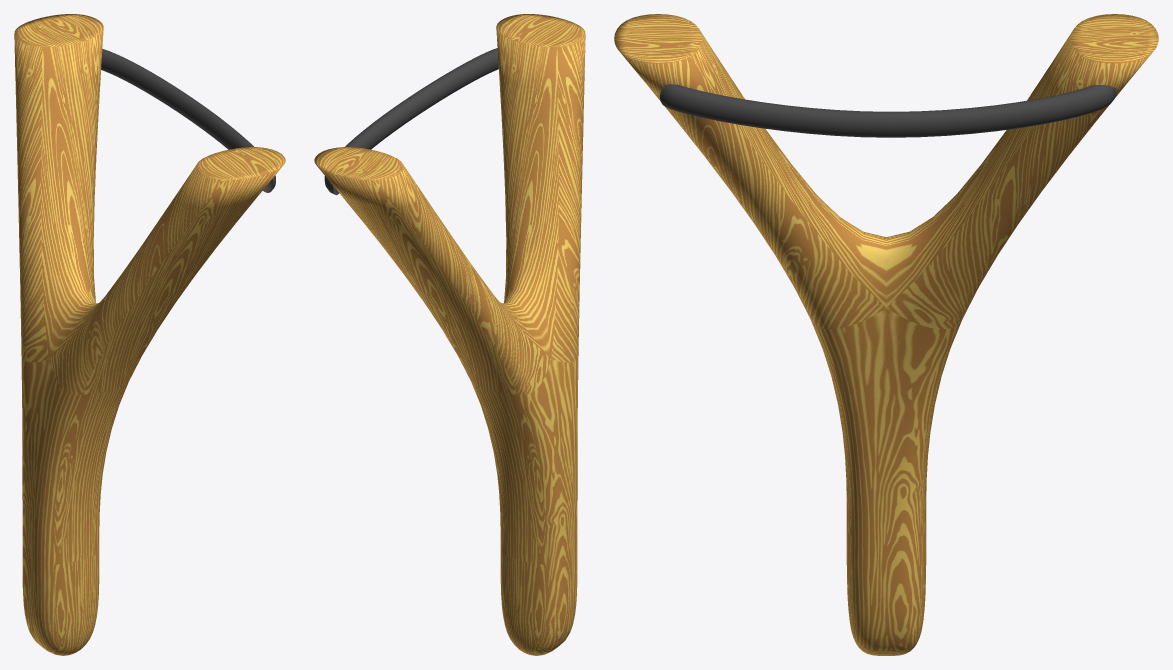
File: estilinguetextura.fbx
3 renders of one model, left to right at view 1: azimuth 30°, elevation 25°; view 2: azimuth 150°, elevation 25°; view 3: azimuth 270°, elevation 25°, orthographic. The views are drawn at different scales.
Parts seen in each view (by area): view 1: Cube, BezierCurve; view 2: Cube, BezierCurve; view 3: Cube, BezierCurve.
Boxes of the visible parts, x1,y1,x2,y2 form: Cube: (14, 14, 285, 655); BezierCurve: (101, 49, 275, 192); Cube: (314, 14, 585, 655); BezierCurve: (324, 48, 498, 195); Cube: (614, 14, 1158, 655); BezierCurve: (660, 84, 1116, 137).
Bounding box in the file's own units: 5.99 × 16.29 × 12.03.
Materials: 2 (1 with a texture image).
